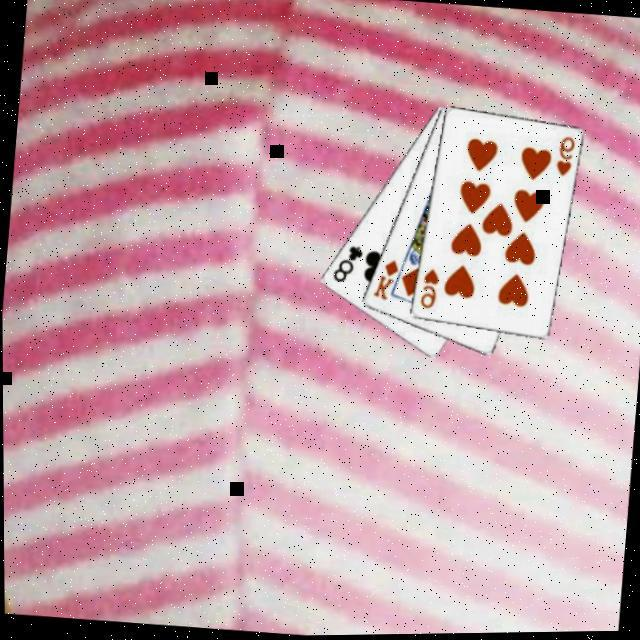8C: (327, 242, 364, 290)
9H: (550, 136, 576, 183), (414, 267, 439, 315)
KD: (367, 258, 399, 306)
